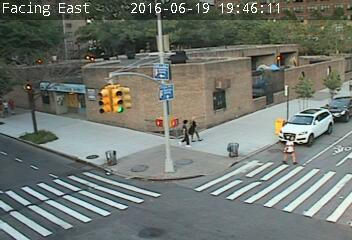neg: (245, 178, 265, 205), (49, 166, 67, 190), (177, 73, 194, 95), (216, 82, 232, 104), (78, 67, 94, 88), (35, 70, 51, 91), (42, 107, 58, 128), (72, 168, 88, 189), (123, 162, 137, 181), (116, 18, 130, 37), (123, 63, 137, 81), (27, 132, 40, 151), (165, 18, 178, 36), (101, 139, 114, 156), (81, 22, 94, 39), (93, 102, 106, 118), (314, 27, 325, 43), (179, 193, 190, 208), (227, 113, 238, 128), (290, 171, 301, 186), (241, 95, 252, 109), (211, 22, 221, 36), (165, 158, 175, 172), (199, 167, 209, 181), (255, 16, 265, 29), (32, 32, 42, 45), (315, 151, 325, 164), (295, 78, 304, 90), (272, 49, 281, 60), (244, 157, 251, 166)
pos: (280, 134, 303, 164), (173, 117, 193, 143), (187, 115, 204, 138), (6, 97, 19, 114)
